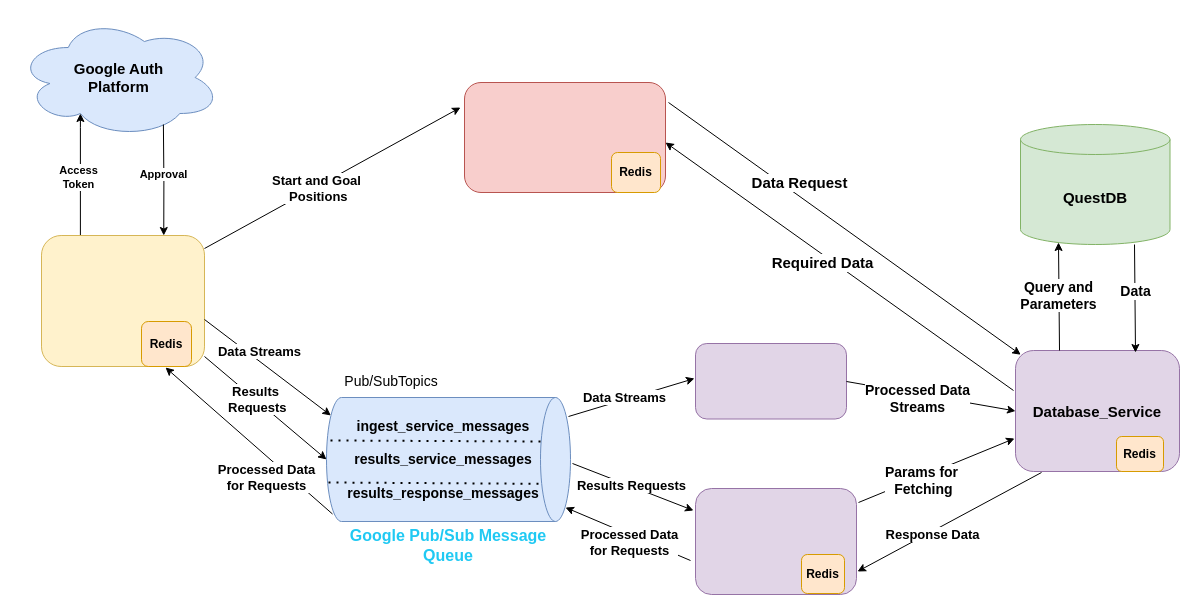
This 1197x612 diagram has some shape labels left out. Each missing label, with the box of its shape:
Client_Message_ Handler: (40, 234, 204, 366)
Data_Provider_Service: (694, 488, 856, 594)
Ingest_Service: (694, 342, 846, 419)
Routing_Service: (464, 82, 666, 192)
